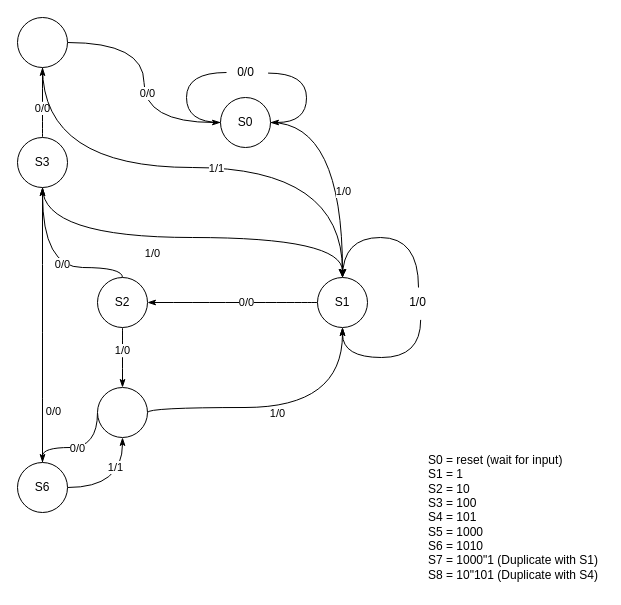
Image size: 621x605. Some labels were removed from this diagram. Here are the shapes that lost their labels. From the top down, the box of each, then its label:
(16, 16, 68, 68): S5
(96, 386, 148, 438): S4
